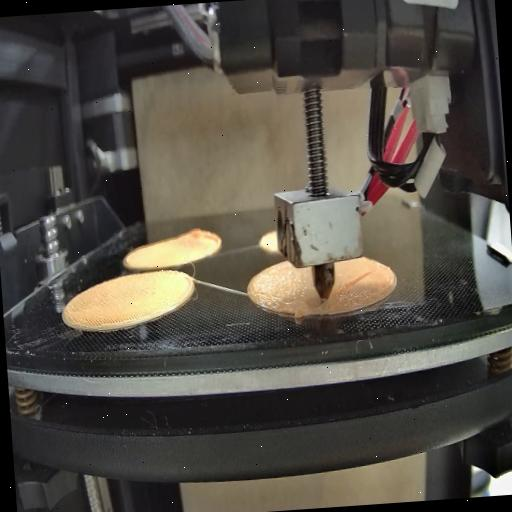over_extrusion: (331, 268, 375, 301), (188, 220, 223, 252), (310, 298, 324, 314)
